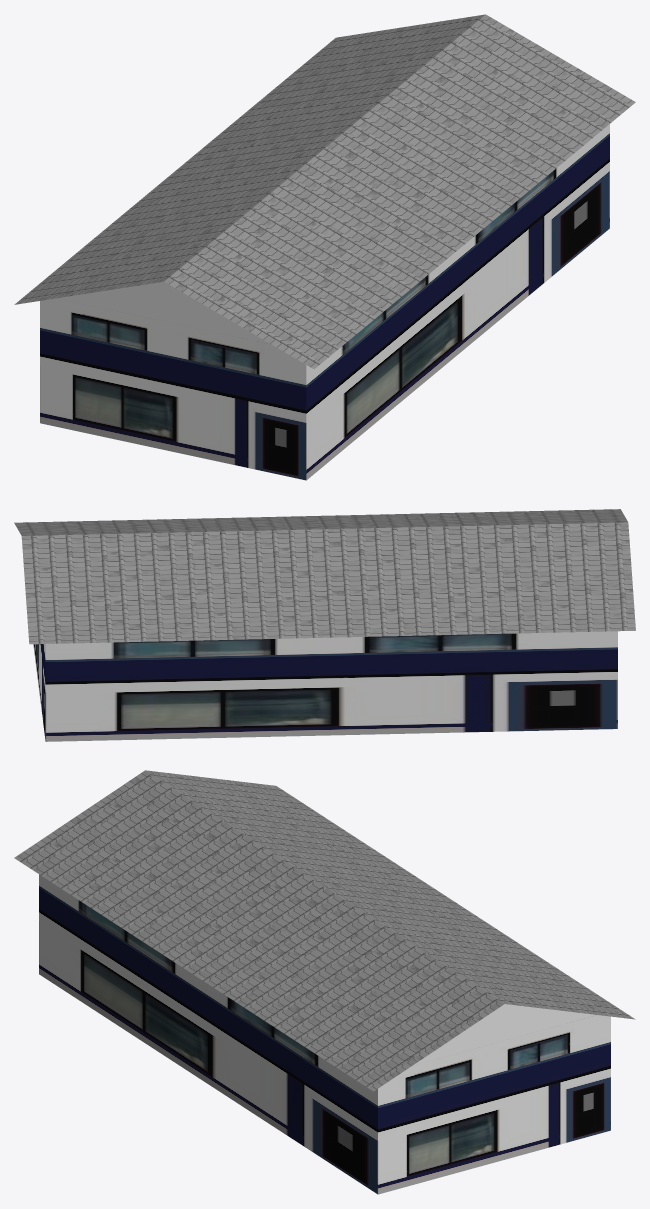
The picture shows the model from 3 angles, top to bottom: view 1: azimuth 30°, elevation 25°; view 2: azimuth 150°, elevation 25°; view 3: azimuth 270°, elevation 25°; orthographic projection. The views are drawn at different scales.
Visible parts, largest first — view 1: CityEngineMaterial_4_m, CityEngineMaterial_2_m, CityEngineMaterial_3_m; view 2: CityEngineMaterial_4_m, CityEngineMaterial_2_m; view 3: CityEngineMaterial_4_m, CityEngineMaterial_2_m, CityEngineMaterial_3_m.
Boxes of the visible parts, left/top/right/bottom form: CityEngineMaterial_4_m: left=14, top=14, right=635, bottom=369; CityEngineMaterial_2_m: left=40, top=124, right=609, bottom=480; CityEngineMaterial_3_m: left=57, top=281, right=270, bottom=344; CityEngineMaterial_4_m: left=14, top=509, right=635, bottom=644; CityEngineMaterial_2_m: left=33, top=631, right=617, bottom=741; CityEngineMaterial_4_m: left=14, top=770, right=635, bottom=1091; CityEngineMaterial_2_m: left=39, top=874, right=610, bottom=1194; CityEngineMaterial_3_m: left=413, top=1004, right=596, bottom=1065.
Bounding box in the file's own units: 38.8 × 9.78 × 33.35.
